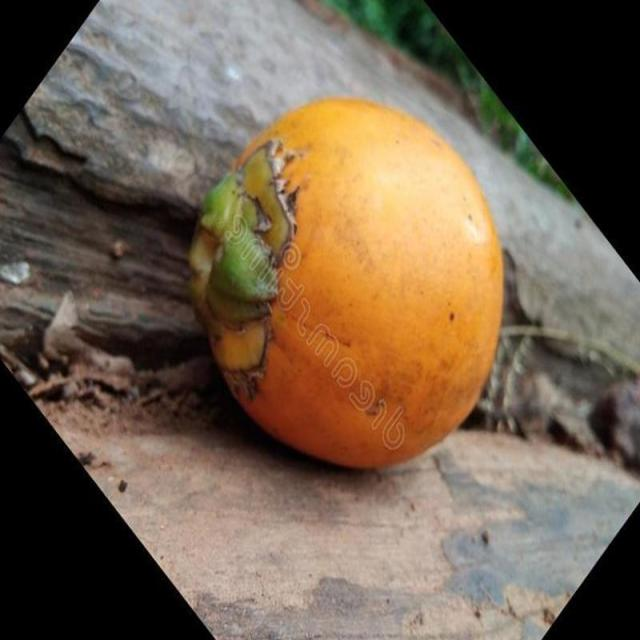good: (190, 98, 504, 473)
